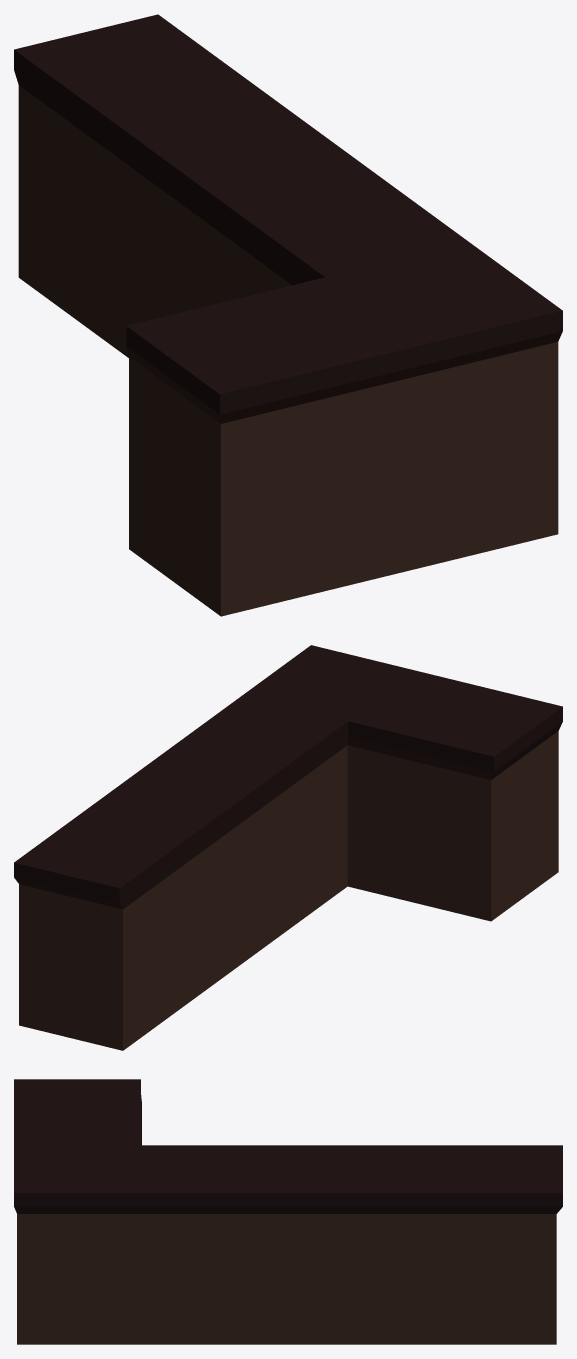
The model's file is barcounter.fbx.
The picture shows the model from 3 angles, top to bottom: view 1: azimuth 30°, elevation 25°; view 2: azimuth 150°, elevation 25°; view 3: azimuth 270°, elevation 25°; orthographic projection. The views are drawn at different scales.
Parts seen in each view (by area): view 1: Cube; view 2: Cube; view 3: Cube.
Boxes of the visible parts, box(x1,y1,x2,y2) form: Cube: box(14, 14, 562, 616); Cube: box(14, 645, 562, 1050); Cube: box(14, 1079, 562, 1344).
Bounding box in the file's own units: 320 × 200 × 653.
